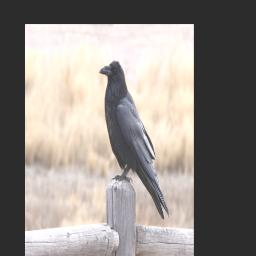Crow: (99, 59, 171, 223)
